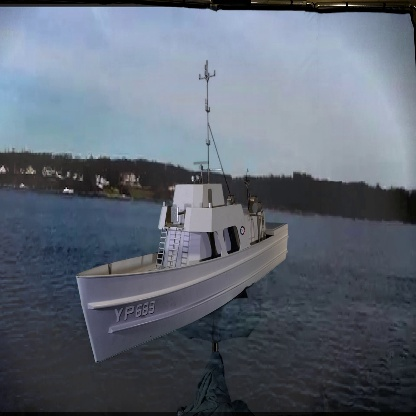YP689: (75, 63, 289, 363)
